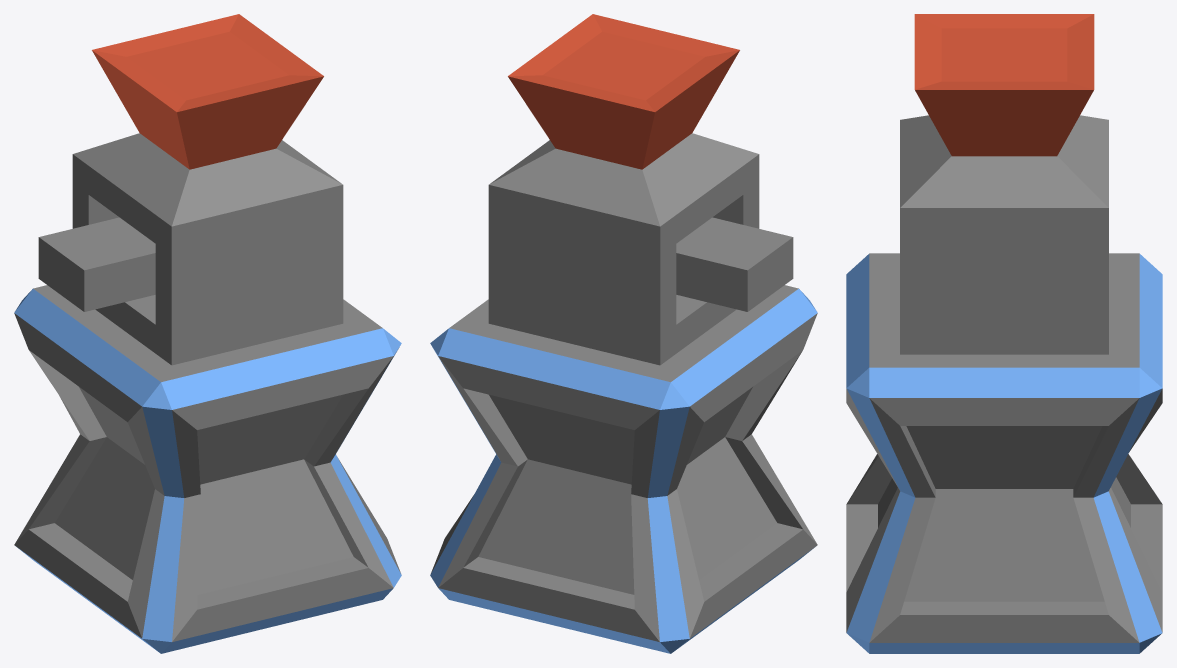
Rendered from turret.glb.
The picture shows the model from 3 angles, left to right: view 1: azimuth 30°, elevation 25°; view 2: azimuth 150°, elevation 25°; view 3: azimuth 270°, elevation 25°; orthographic projection. The views are drawn at different scales.
Visible parts, largest first — view 1: Cube; view 2: Cube; view 3: Cube.
Boxes of the visible parts, box(x1,y1,x2,y2) form: Cube: box(14, 14, 401, 653); Cube: box(430, 14, 817, 653); Cube: box(846, 14, 1162, 653).
Size of the model in its own units: 2.13 by 3.8 by 2.
Materials: 1 (1 with a texture image).
